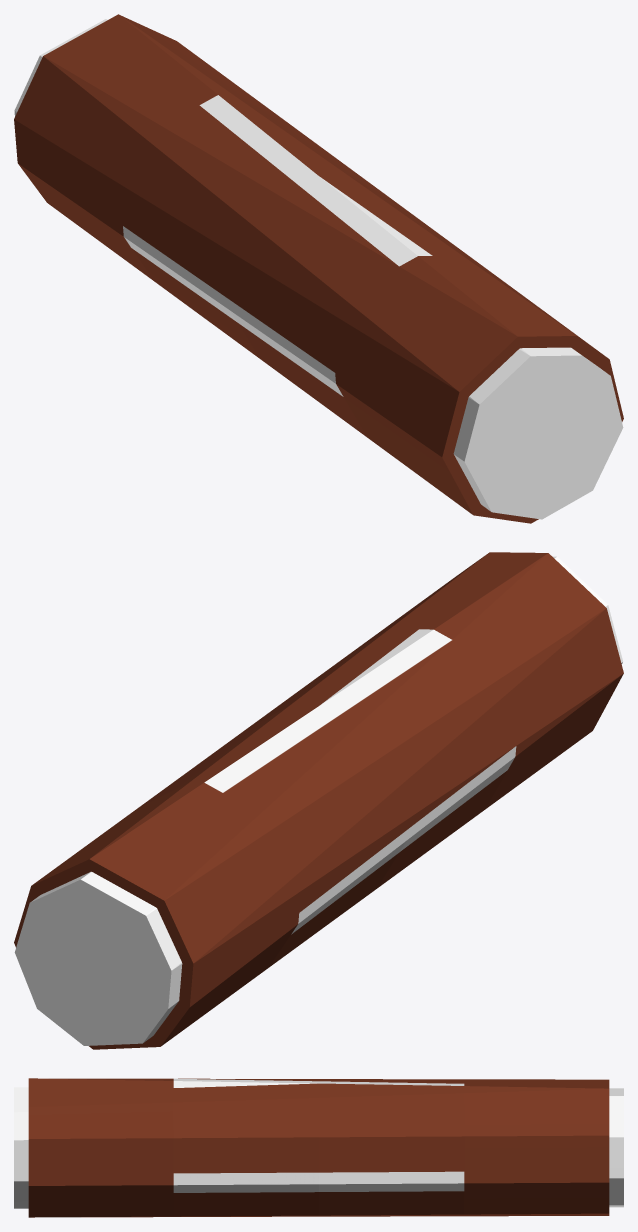
File: jap07.fbx
3 renders of one model, top to bottom at view 1: azimuth 30°, elevation 25°; view 2: azimuth 150°, elevation 25°; view 3: azimuth 270°, elevation 25°, orthographic. The views are drawn at different scales.
Visible parts, largest first — view 1: Cylinder, Cylinder.001; view 2: Cylinder, Cylinder.001; view 3: Cylinder, Cylinder.001.
Part boxes in pixels (x1,y1,x2,y2): Cylinder: [14, 14, 623, 523]; Cylinder.001: [14, 19, 623, 519]; Cylinder: [14, 552, 623, 1049]; Cylinder.001: [14, 556, 623, 1045]; Cylinder: [28, 1078, 609, 1217]; Cylinder.001: [14, 1087, 623, 1208].
Size of the model in its own units: 196 by 195 by 840.
